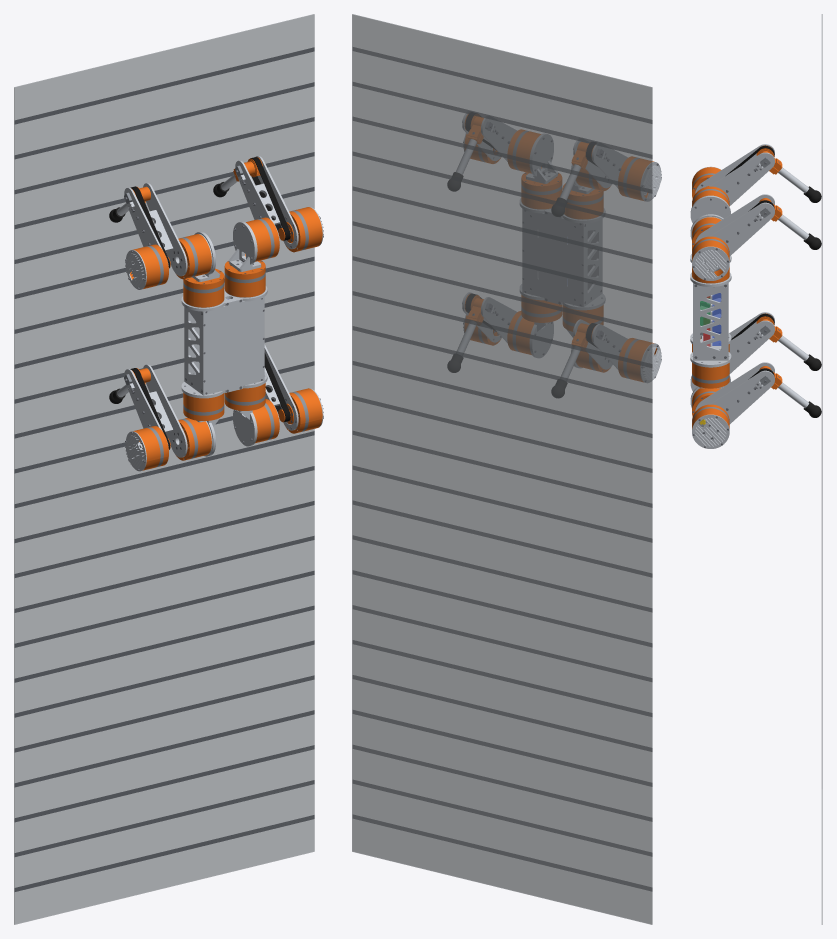
The picture shows the model from 3 angles, left to right: view 1: azimuth 30°, elevation 25°; view 2: azimuth 150°, elevation 25°; view 3: azimuth 270°, elevation 25°; orthographic projection. The views are drawn at different scales.
Parts seen in each view (by area): view 1: 264:Boden, 265:Boden_Raster, 248:Deckel, 246:Seitenplatte_rechts, 154:HL_Huefttraeger, 115:VR_Oberschenkelplatte_innen, 211:HR_Oberschenkelplatte_innen, 163:HL_Oberschenkelplatte_innen, 212:HR_Oberschenkelplatte_aussen, 116:VR_Oberschenkelplatte_aussen, 24:VL_Huefttraeger, 180:HL_Zahnriemen_HTD_5M_15_mm (+3 smaller); view 2: 264:Boden, 265:Boden_Raster, 247:Bodenplatte, 246:Seitenplatte_rechts, 154:HL_Huefttraeger, 163:HL_Oberschenkelplatte_innen, 50:VL_Oberschenkelplatte_innen, 116:VR_Oberschenkelplatte_aussen, 212:HR_Oberschenkelplatte_aussen; view 3: 245:Seitenplatte_links, 264:Boden, 164:HL_Oberschenkelplatte_aussen, 211:HR_Oberschenkelplatte_innen, 51:VL_Oberschenkelplatte_aussen, 115:VR_Oberschenkelplatte_innen, 68:VL_Knie_Kuehlplatte_mit_Rippen, 181:HL_Knie_Kuehlplatte_mit_Rippen, 202:HR_Huefttraeger, 50:VL_Oberschenkelplatte_innen, 163:HL_Oberschenkelplatte_innen, 2:VL_Abduktion_Motorgehaeuse (+3 smaller).
Boxes of the visible parts, <box> form: 264:Boden: <box>14,14,314,924</box>; 265:Boden_Raster: <box>14,47,314,891</box>; 248:Deckel: <box>203,297,264,395</box>; 246:Seitenplatte_rechts: <box>185,307,202,394</box>; 154:HL_Huefttraeger: <box>228,221,261,271</box>; 115:VR_Oberschenkelplatte_innen: <box>143,364,187,457</box>; 211:HR_Oberschenkelplatte_innen: <box>143,183,187,276</box>; 163:HL_Oberschenkelplatte_innen: <box>235,160,279,245</box>; 212:HR_Oberschenkelplatte_aussen: <box>124,187,168,267</box>; 116:VR_Oberschenkelplatte_aussen: <box>124,369,168,446</box>; 24:VL_Huefttraeger: <box>233,410,257,446</box>; 180:HL_Zahnriemen_HTD_5M_15_mm: <box>250,157,290,240</box>; 264:Boden: <box>352,14,652,924</box>; 265:Boden_Raster: <box>353,47,651,890</box>; 247:Bodenplatte: <box>522,209,583,306</box>; 246:Seitenplatte_rechts: <box>584,219,601,305</box>; 154:HL_Huefttraeger: <box>526,134,557,183</box>; 163:HL_Oberschenkelplatte_innen: <box>481,118,516,161</box>; 50:VL_Oberschenkelplatte_innen: <box>481,297,516,342</box>; 116:VR_Oberschenkelplatte_aussen: <box>592,324,627,368</box>; 212:HR_Oberschenkelplatte_aussen: <box>592,145,627,187</box>; 245:Seitenplatte_links: <box>694,283,727,360</box>; 264:Boden: <box>821,14,822,924</box>; 164:HL_Oberschenkelplatte_aussen: <box>709,202,774,256</box>; 211:HR_Oberschenkelplatte_innen: <box>709,152,774,205</box>; 51:VL_Oberschenkelplatte_aussen: <box>709,370,774,424</box>; 115:VR_Oberschenkelplatte_innen: <box>729,320,774,373</box>; 68:VL_Knie_Kuehlplatte_mit_Rippen: <box>692,414,729,448</box>; 181:HL_Knie_Kuehlplatte_mit_Rippen: <box>692,246,729,280</box>; 202:HR_Huefttraeger: <box>690,195,730,223</box>; 50:VL_Oberschenkelplatte_innen: <box>695,362,774,411</box>; 163:HL_Oberschenkelplatte_innen: <box>695,194,774,243</box>; 2:VL_Abduktion_Motorgehaeuse: <box>692,362,729,380</box>.
Size of the model in its own units: 900 by 2400 by 372.
